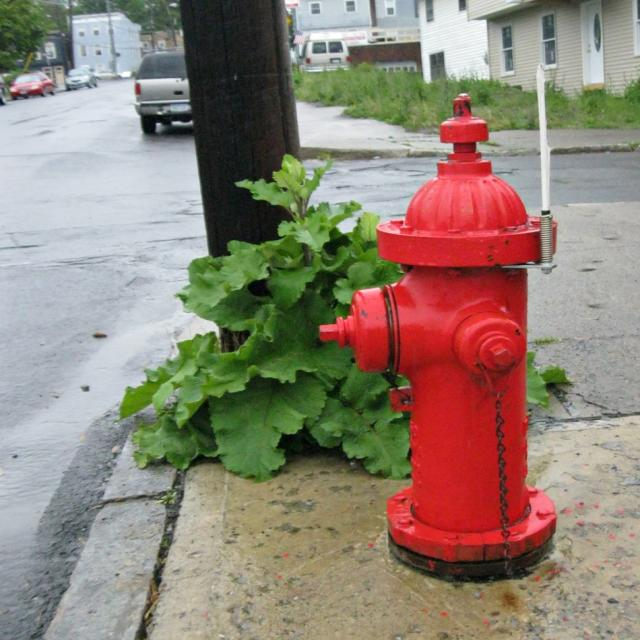fire_hydrant: (322, 89, 563, 571)
